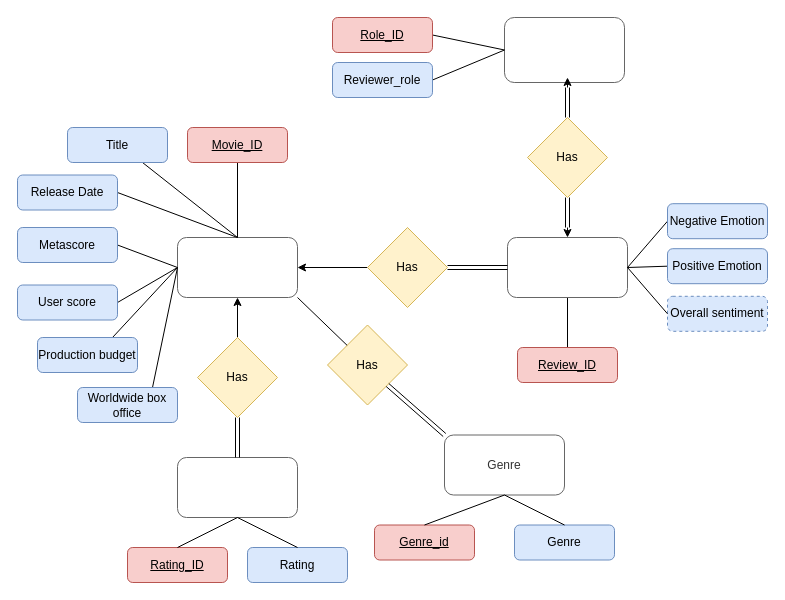
This 785x600 diagram has some shape labels left out. The shapes that lost their labels are listed below. From the top down, each one's centre as x and y in pixels, then its label:
At (x=564, y=49): "Role".
At (x=237, y=267): "Movie".
At (x=567, y=267): "Review".
At (x=237, y=487): "Age rating".
